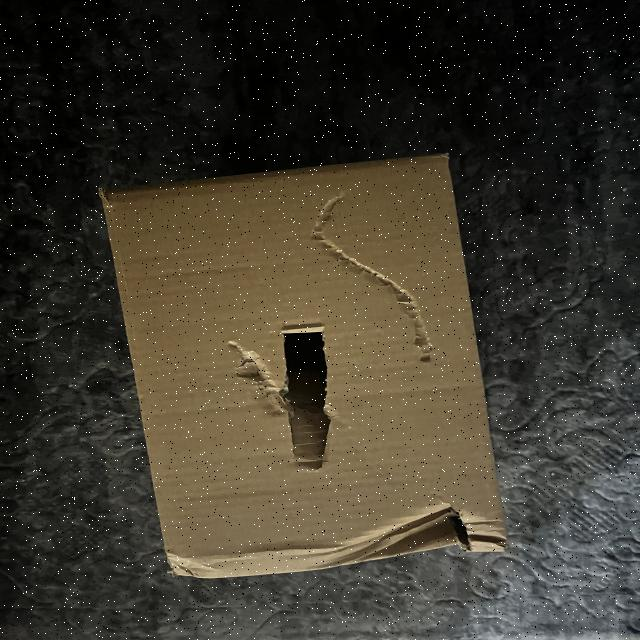damaged: (95, 154, 547, 594), (302, 175, 454, 377), (230, 305, 350, 479), (332, 496, 512, 584)
